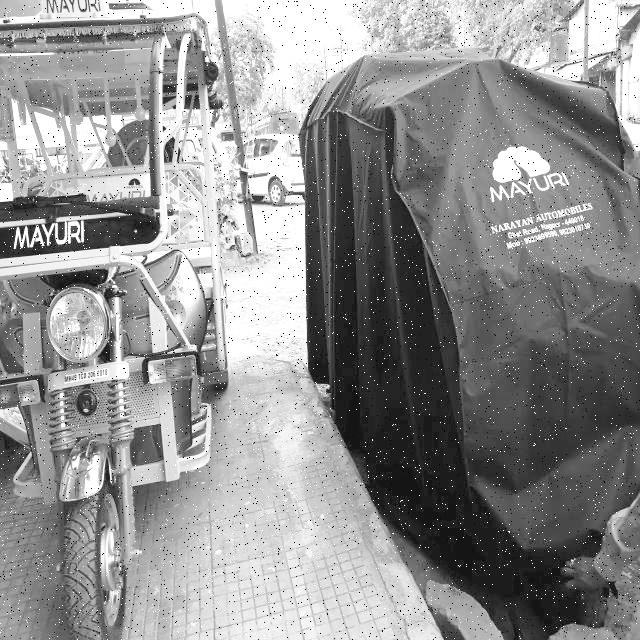Toto: (0, 6, 217, 640)
